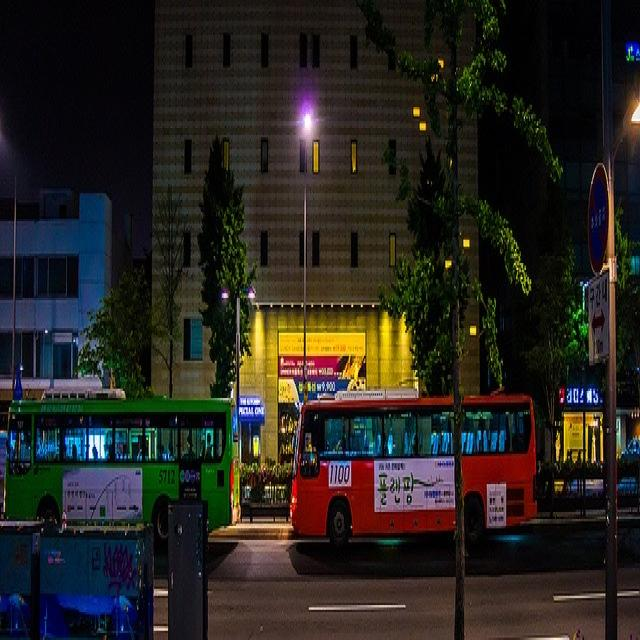Bus: (281, 361, 542, 596), (0, 361, 243, 549)
